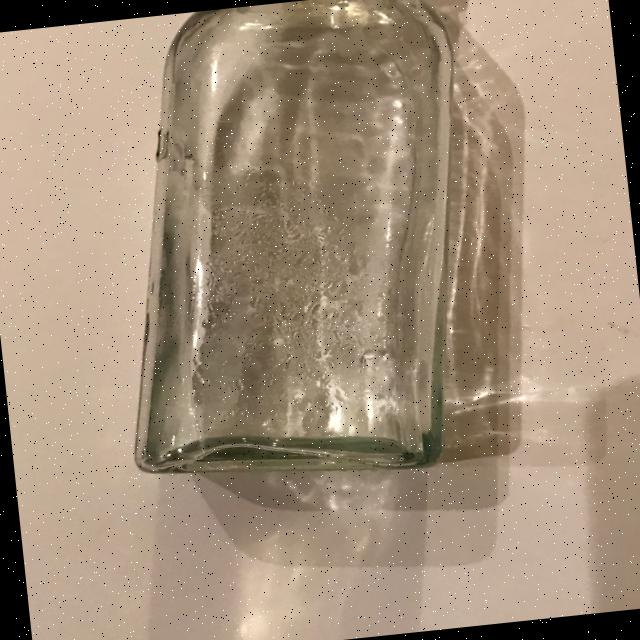glass: (87, 0, 559, 498)
